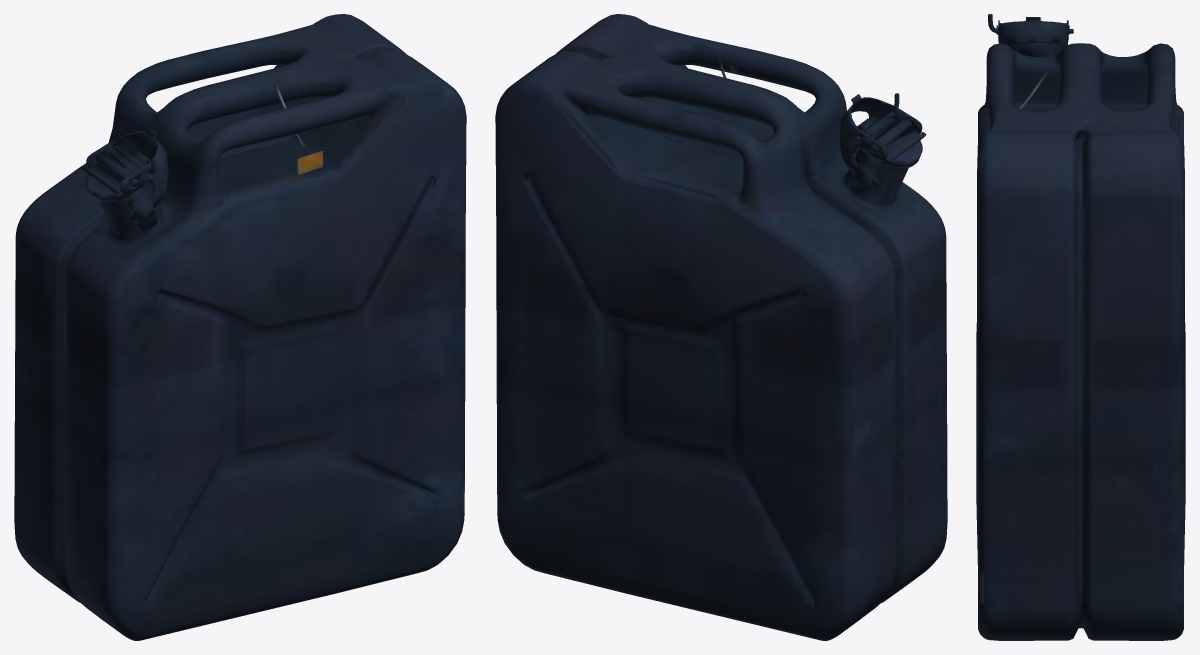
Rendered from water_canister.glb.
The picture shows the model from 3 angles, left to right: view 1: azimuth 30°, elevation 25°; view 2: azimuth 150°, elevation 25°; view 3: azimuth 270°, elevation 25°; orthographic projection. The views are drawn at different scales.
Parts seen in each view (by area): view 1: water_canister; view 2: water_canister; view 3: water_canister.
Boxes of the visible parts, x1,y1,x2,y2 form: water_canister: (14,14,466,640); water_canister: (495,14,947,640); water_canister: (976,14,1185,640).
Bounding box in the file's own units: 0.385 × 0.5053 × 0.1888.
1 material, 1 textured.
